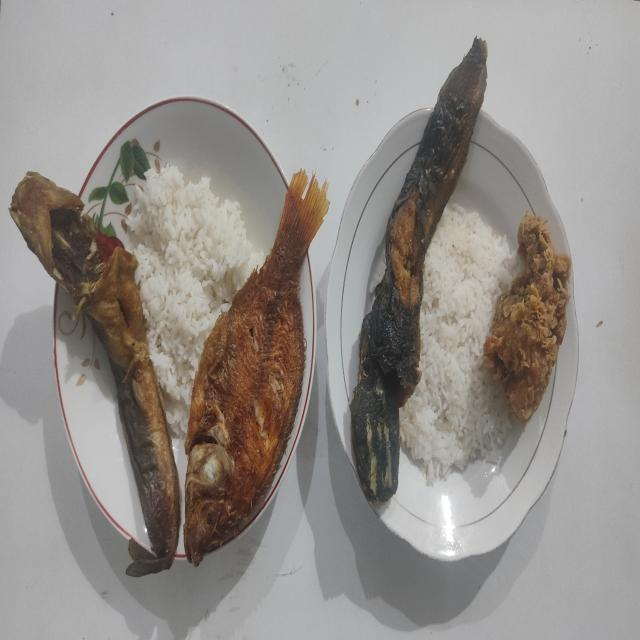ikan_mujair: (184, 170, 329, 566)
nasi_putih: (126, 164, 266, 438), (400, 204, 520, 484)
